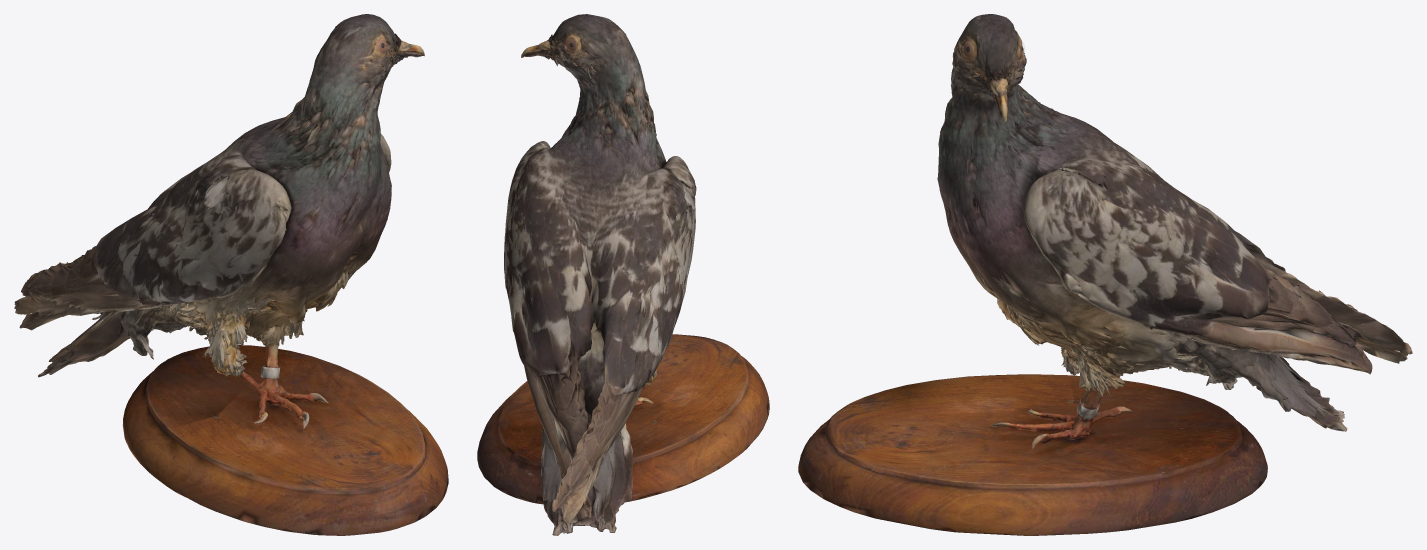
The model's file is cher-ami.glb.
The picture shows the model from 3 angles, left to right: view 1: azimuth 30°, elevation 25°; view 2: azimuth 150°, elevation 25°; view 3: azimuth 270°, elevation 25°; orthographic projection. The views are drawn at different scales.
Visible parts, largest first — view 1: cher_ami; view 2: cher_ami; view 3: cher_ami.
Boxes of the visible parts, bbox=[...] form: cher_ami: bbox=[14, 14, 448, 535]; cher_ami: bbox=[477, 14, 769, 535]; cher_ami: bbox=[798, 14, 1412, 535].
Size of the model in its own units: 0.1382 by 0.2298 by 0.266.
3 materials, 2 textured.
